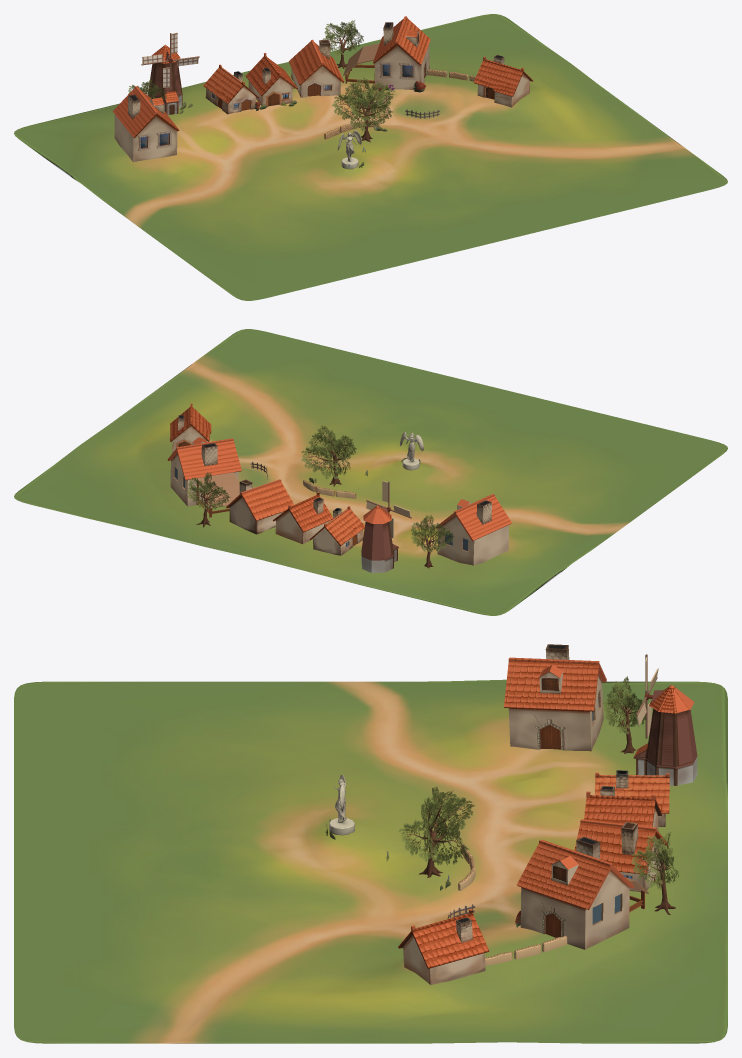
File: medieval town.glb
3 renders of one model, top to bottom at view 1: azimuth 30°, elevation 25°; view 2: azimuth 150°, elevation 25°; view 3: azimuth 270°, elevation 25°, orthographic. The views are drawn at different scales.
Parts seen in each view (by area): view 1: ground, house01.002, house01, house02, tree.002, house03.001, house03, house04, windmill, tree.004, blade, stable (+1 smaller); view 2: ground, house01.002, house01, house02, windmill, tree.002, house03, house04, house03.001, stable, tree.005, tree.004 (+2 smaller); view 3: ground, house01, house01.002, house03.001, windmill, tree.002, house02, house03, house04, tree.004, tree.005, wall.002 (+2 smaller).
Boxes of the visible parts, left/top/right/bottom form: ground: left=14, top=14, right=727, bottom=300; house01.002: left=112, top=86, right=179, bottom=162; house01: left=373, top=16, right=430, bottom=90; house02: left=288, top=39, right=344, bottom=97; tree.002: left=332, top=77, right=393, bottom=142; house03.001: left=473, top=54, right=533, bottom=107; house03: left=245, top=53, right=297, bottom=106; house04: left=203, top=64, right=258, bottom=114; windmill: left=148, top=44, right=182, bottom=114; tree.004: left=322, top=20, right=363, bottom=69; blade: left=141, top=32, right=199, bottom=88; stable: left=343, top=43, right=379, bottom=83; ground: left=14, top=329, right=727, bottom=615; house01.002: left=436, top=494, right=511, bottom=565; house01: left=167, top=437, right=241, bottom=506; house02: left=226, top=479, right=294, bottom=534; windmill: left=361, top=505, right=398, bottom=572; tree.002: left=301, top=425, right=356, bottom=486; house03: left=273, top=492, right=333, bottom=544; house04: left=310, top=506, right=364, bottom=555; house03.001: left=170, top=403, right=211, bottom=452; stable: left=196, top=472, right=239, bottom=517; tree.005: left=410, top=515, right=453, bottom=568; tree.004: left=187, top=472, right=230, bottom=527; ground: left=14, top=679, right=727, bottom=1043; house01: left=516, top=836, right=634, bottom=949; house01.002: left=504, top=644, right=606, bottom=751; house03.001: left=398, top=909, right=489, bottom=984; windmill: left=633, top=684, right=697, bottom=785; tree.002: left=398, top=786, right=474, bottom=877; house02: left=574, top=819, right=668, bottom=892; house03: left=584, top=786, right=661, bottom=831; house04: left=595, top=770, right=669, bottom=826; tree.004: left=631, top=832, right=678, bottom=914; tree.005: left=602, top=676, right=645, bottom=753; wall.002: left=485, top=935, right=567, bottom=965.
Bounding box in the file's own units: 120 × 20.64 × 100.
Materials: 3 (3 with a texture image).
